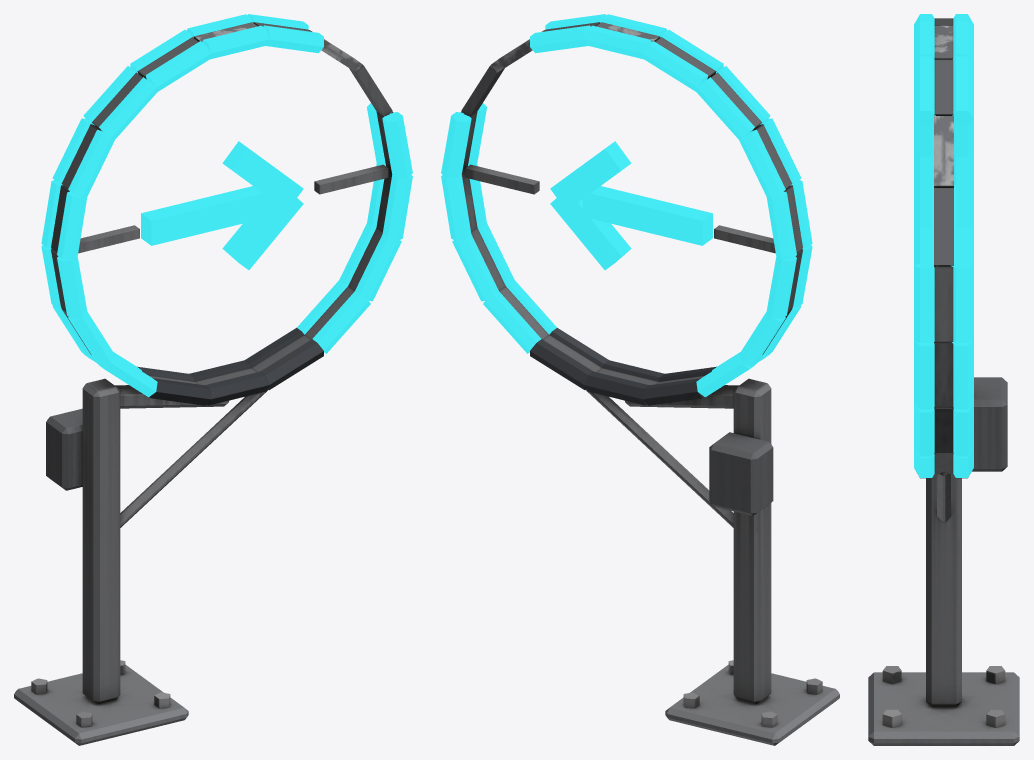
The model's file is nodexeus-set-sign-b.glb.
3 renders of one model, left to right at view 1: azimuth 30°, elevation 25°; view 2: azimuth 150°, elevation 25°; view 3: azimuth 270°, elevation 25°, orthographic. The views are drawn at different scales.
Parts seen in each view (by area): view 1: set-sign-b; view 2: set-sign-b; view 3: set-sign-b.
Boxes of the visible parts, x1,y1,x2,y2 form: set-sign-b: (14, 14, 412, 745); set-sign-b: (441, 14, 839, 745); set-sign-b: (868, 14, 1019, 745).
Size of the model in its own units: 1.2 by 2.08 by 0.38.
1 material, 1 textured.
